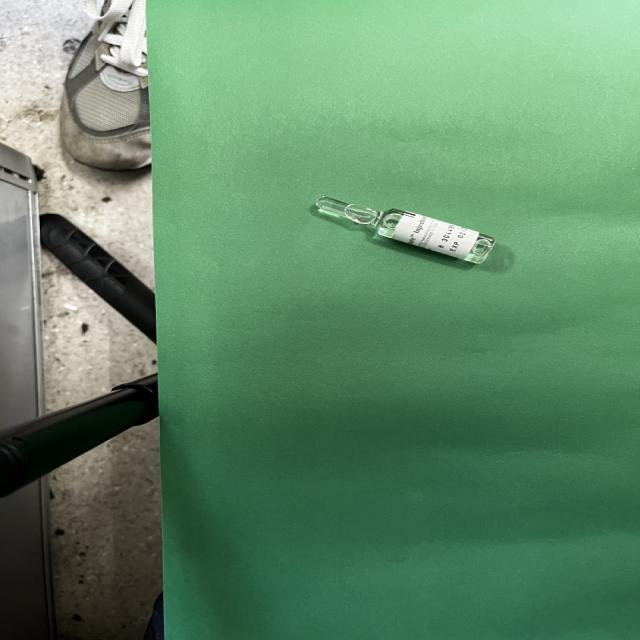Ampoules: (316, 196, 496, 264)
